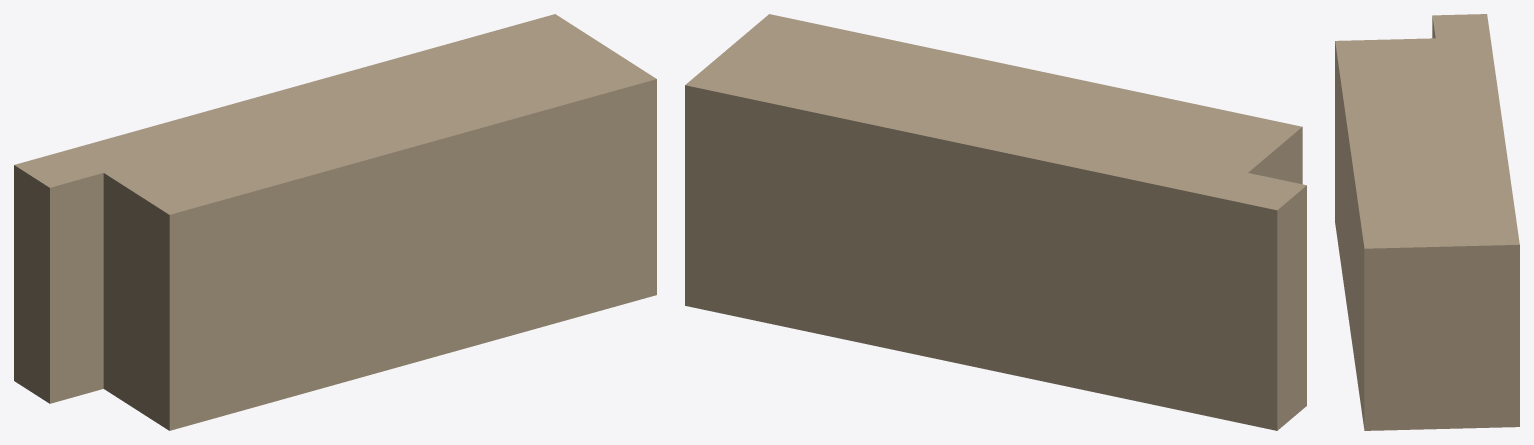
The model's file is bld_106466818.dae.
The picture shows the model from 3 angles, left to right: view 1: azimuth 30°, elevation 25°; view 2: azimuth 150°, elevation 25°; view 3: azimuth 270°, elevation 25°; orthographic projection. The views are drawn at different scales.
Parts seen in each view (by area): view 1: Castle Print Finishing; view 2: Castle Print Finishing; view 3: Castle Print Finishing.
Part boxes in pixels (bbox=[...]): Castle Print Finishing: bbox=[14, 14, 656, 430]; Castle Print Finishing: bbox=[685, 14, 1306, 430]; Castle Print Finishing: bbox=[1335, 14, 1519, 430].
Bounding box in the file's own units: 22.1 × 7.35 × 8.
